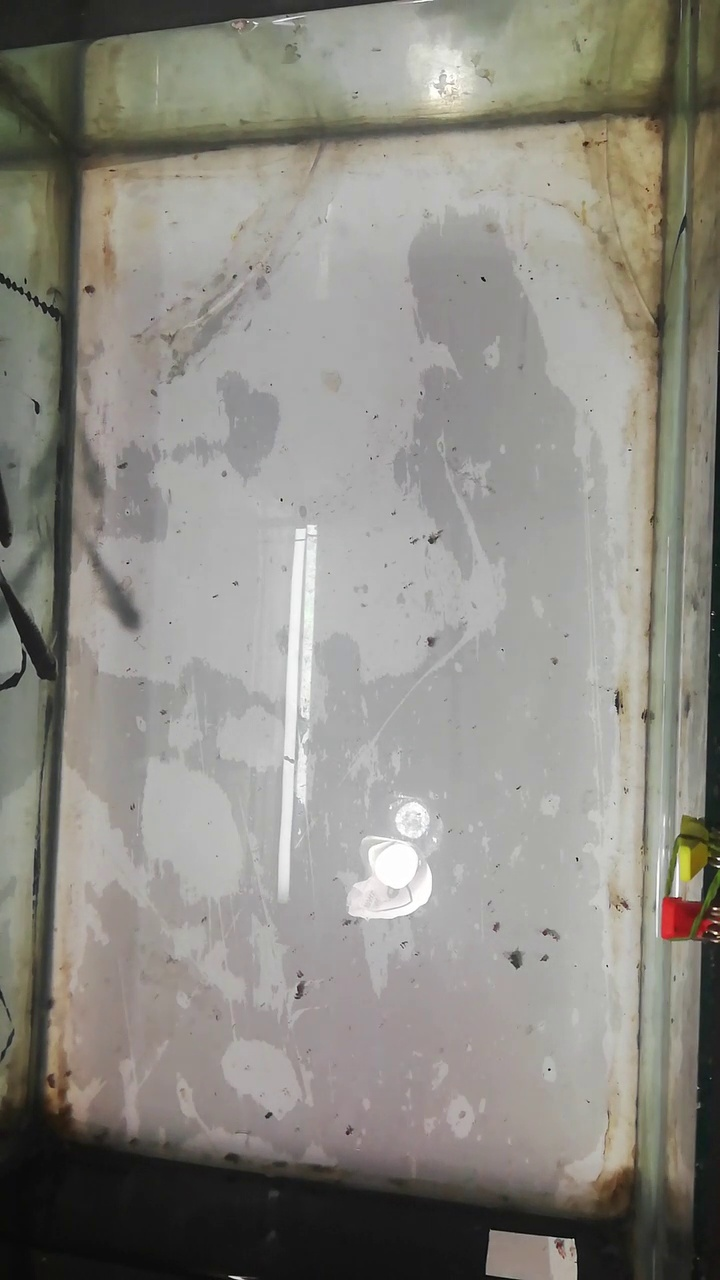fish1: (75, 538, 143, 635)
fish2: (70, 420, 110, 503)
